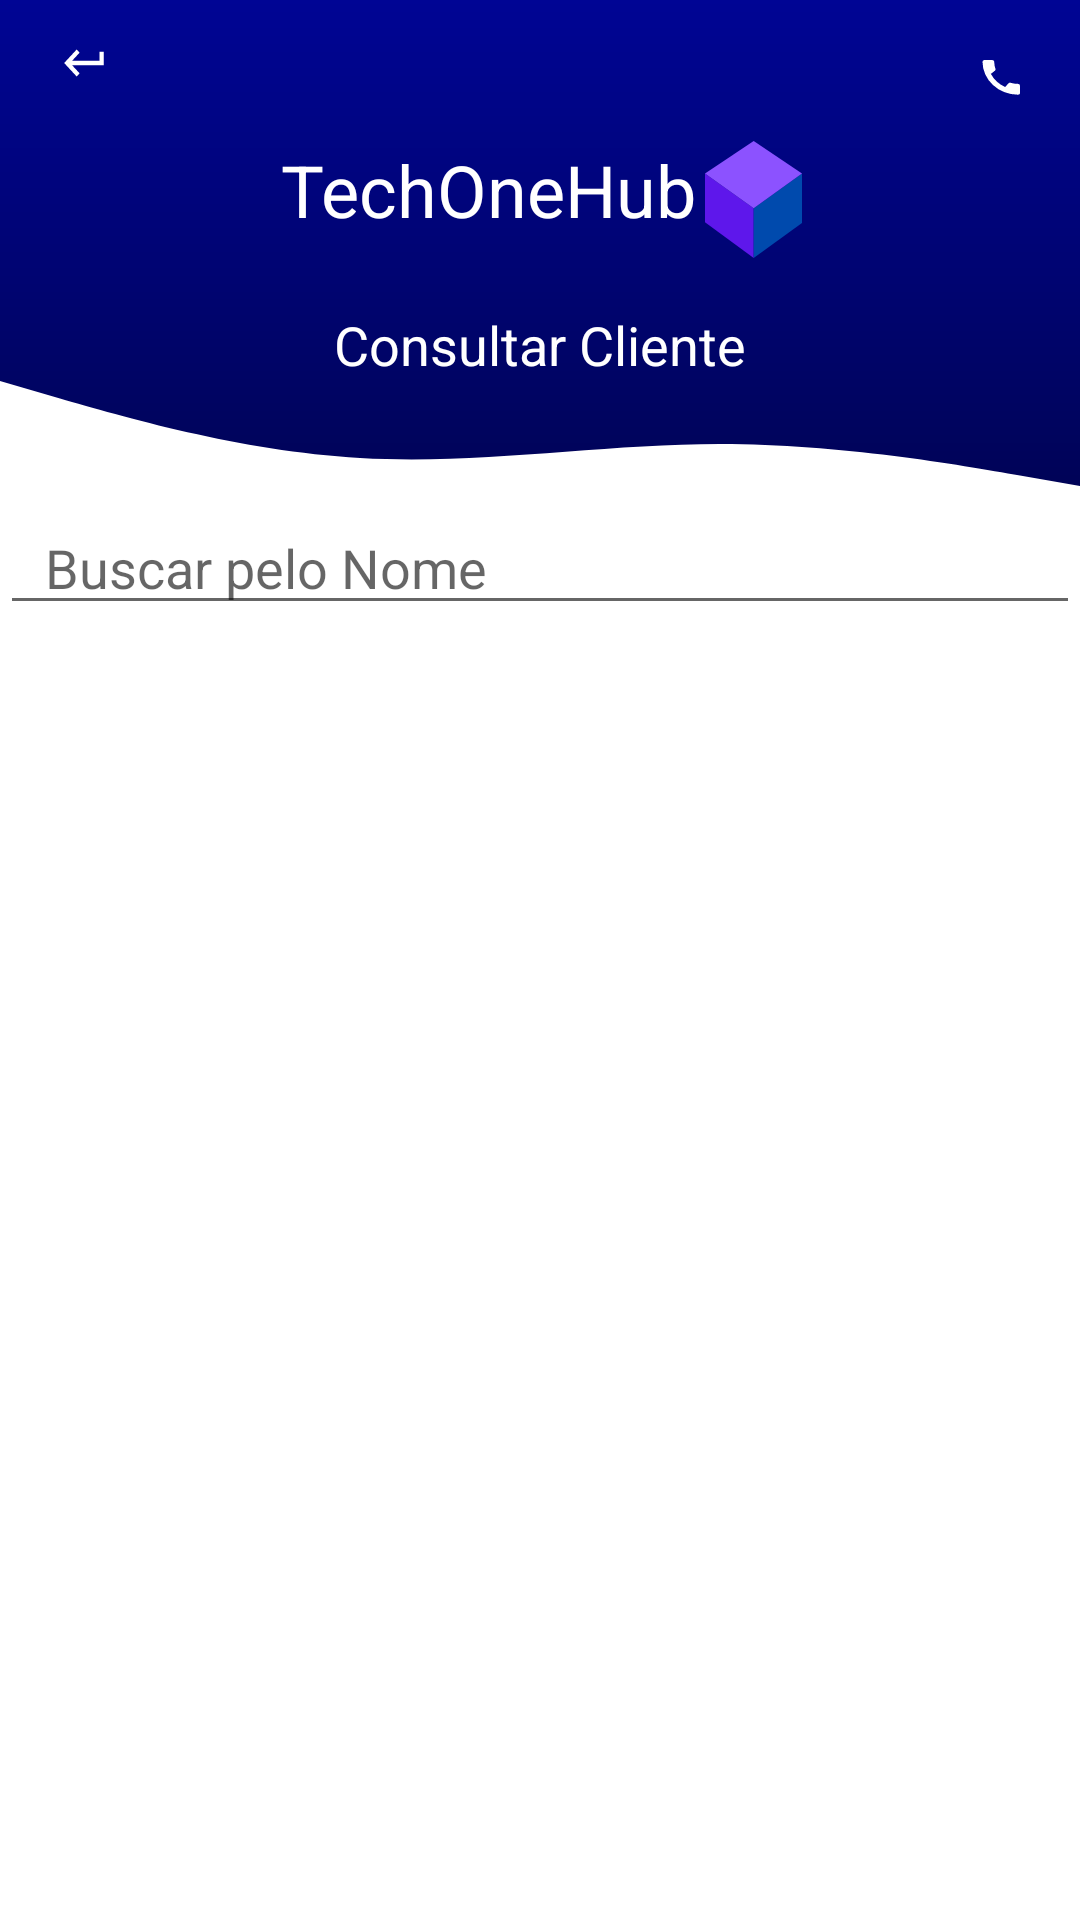

Icon click points for this 1080×1920 phone screenshot, format (x,y):
back: (84,63)
call: (1001,77)
